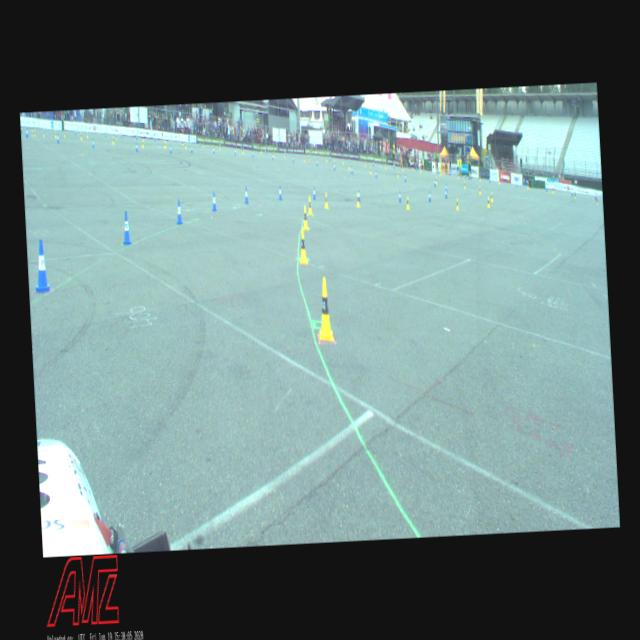blue_cone: (32, 239, 52, 293), (122, 210, 132, 244), (175, 200, 182, 224), (211, 192, 217, 212), (244, 186, 249, 204), (312, 187, 316, 200), (278, 187, 282, 200), (398, 190, 402, 202), (358, 189, 361, 202), (428, 190, 431, 201), (92, 138, 94, 147), (136, 144, 138, 152), (404, 174, 406, 182), (170, 145, 172, 153), (445, 190, 447, 198), (434, 179, 436, 187), (446, 184, 448, 192), (594, 191, 596, 199), (375, 170, 377, 178), (334, 162, 336, 170), (213, 146, 215, 154), (20, 126, 22, 134), (191, 146, 193, 153), (351, 167, 353, 174), (571, 189, 573, 196), (546, 185, 548, 192), (316, 160, 318, 166), (516, 182, 518, 188), (489, 177, 491, 183), (292, 156, 294, 162), (272, 154, 274, 160), (234, 149, 236, 155), (136, 134, 138, 140), (120, 132, 122, 138), (74, 128, 76, 134), (43, 126, 45, 132), (105, 132, 107, 137), (58, 134, 59, 143), (253, 152, 254, 158), (155, 136, 156, 142), (373, 161, 374, 166), (265, 149, 266, 154), (394, 164, 394, 168), (330, 156, 330, 162), (242, 146, 242, 151), (200, 142, 200, 146)
yellow_cone: (316, 276, 334, 341), (298, 230, 308, 265), (302, 206, 308, 230), (324, 192, 329, 209), (308, 197, 312, 216), (356, 192, 360, 208), (406, 196, 410, 210), (486, 197, 490, 208), (491, 193, 494, 202), (456, 197, 458, 210), (212, 144, 215, 152), (369, 166, 372, 174), (26, 128, 28, 138), (479, 186, 481, 195), (80, 132, 82, 141), (242, 148, 245, 154), (498, 178, 501, 184), (112, 136, 114, 144), (55, 130, 57, 138), (42, 130, 44, 138), (142, 140, 144, 148), (326, 156, 328, 164), (364, 160, 366, 168), (396, 170, 398, 178), (528, 182, 530, 190), (552, 186, 554, 194), (574, 191, 576, 199), (596, 197, 598, 205), (436, 177, 438, 184), (464, 181, 466, 188), (64, 130, 66, 137), (164, 142, 166, 149), (220, 144, 222, 151), (274, 151, 276, 158), (334, 160, 336, 167), (348, 163, 350, 170), (385, 163, 387, 170), (402, 164, 404, 171), (185, 142, 187, 148), (31, 130, 33, 136), (34, 130, 36, 136), (86, 132, 88, 138), (182, 140, 184, 146), (202, 143, 204, 149), (284, 152, 286, 158), (304, 156, 306, 162), (342, 158, 344, 164), (439, 170, 441, 176), (479, 176, 481, 182), (116, 135, 118, 140), (236, 146, 238, 151), (260, 149, 262, 154), (308, 156, 310, 160)
